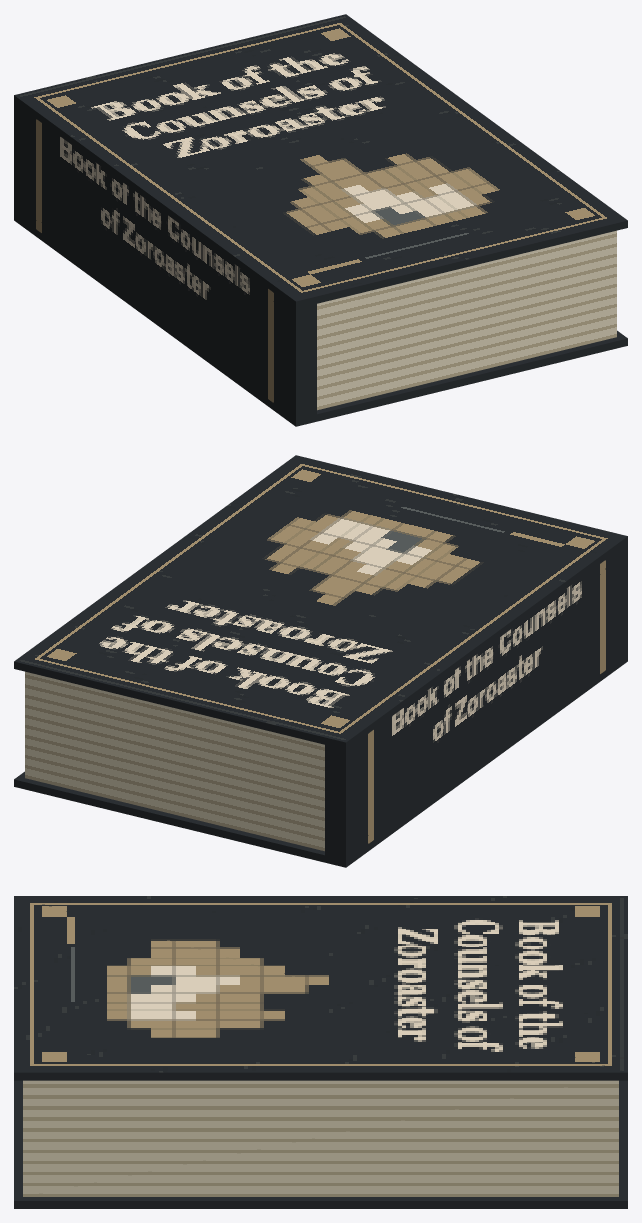
File: holybook_zoro.glb
3 renders of one model, top to bottom at view 1: azimuth 30°, elevation 25°; view 2: azimuth 150°, elevation 25°; view 3: azimuth 270°, elevation 25°, orthographic. The views are drawn at different scales.
Visible parts, largest first — view 1: block_front cover, block_spine, block_page block, block_back cover; view 2: block_front cover, block_spine, block_page block, block_back cover; view 3: block_front cover, block_page block, block_back cover.
Part boxes in pixels (left/top/right/bottom): block_front cover: left=14, top=14, right=627, bottom=308; block_spine: left=14, top=103, right=316, bottom=419; block_page block: left=317, top=230, right=616, bottom=410; block_back cover: left=14, top=213, right=627, bottom=426; block_front cover: left=14, top=455, right=627, bottom=749; block_spine: left=325, top=544, right=627, bottom=860; block_page block: left=25, top=671, right=324, bottom=851; block_back cover: left=14, top=654, right=627, bottom=867; block_front cover: left=14, top=896, right=627, bottom=1080; block_page block: left=23, top=1080, right=618, bottom=1196; block_back cover: left=14, top=1080, right=627, bottom=1208.
Bounding box in the file's own units: 0.1414 × 0.051 × 0.208.
1 material, 1 textured.
